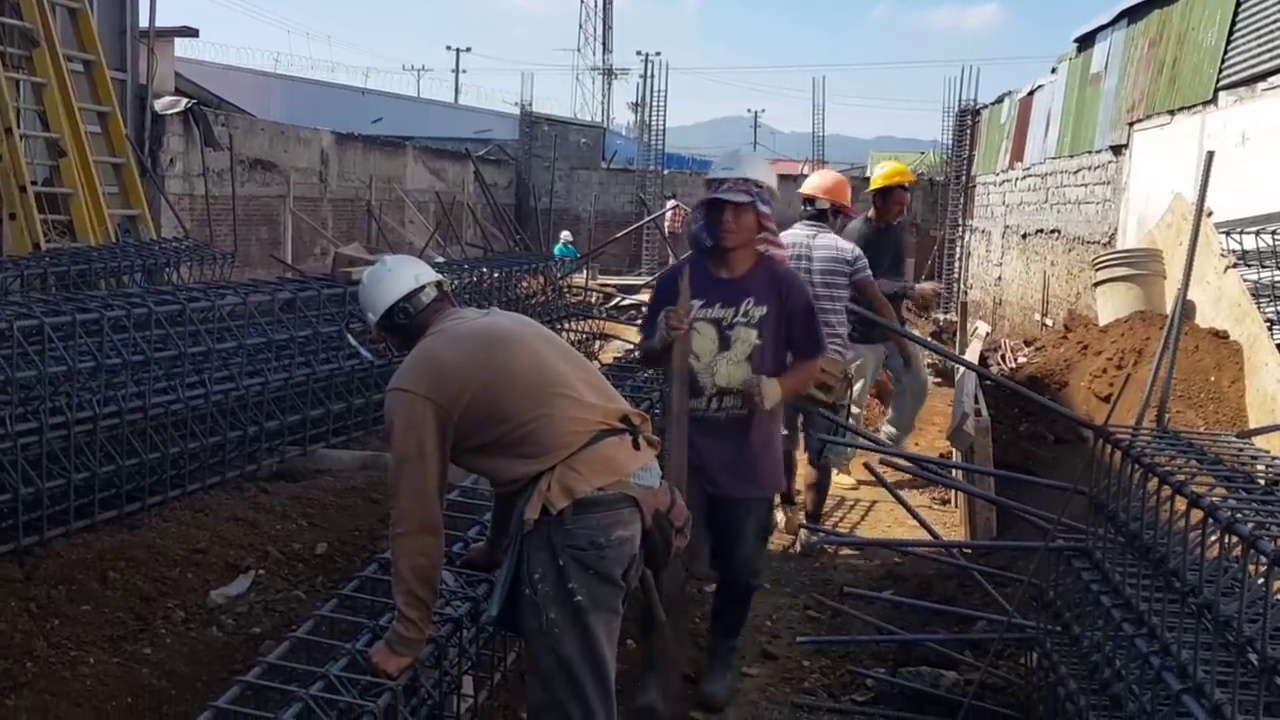helmet: (356, 258, 448, 341), (702, 151, 781, 194), (796, 170, 852, 211), (865, 160, 918, 196), (558, 232, 575, 244)
helmet-off: (663, 189, 677, 203)
helmet-on: (690, 147, 779, 275), (356, 258, 460, 362), (868, 158, 921, 231), (800, 171, 861, 230), (664, 190, 694, 242)
person: (358, 260, 697, 718), (641, 146, 817, 656), (781, 168, 908, 513), (839, 156, 923, 493), (553, 232, 576, 267)
